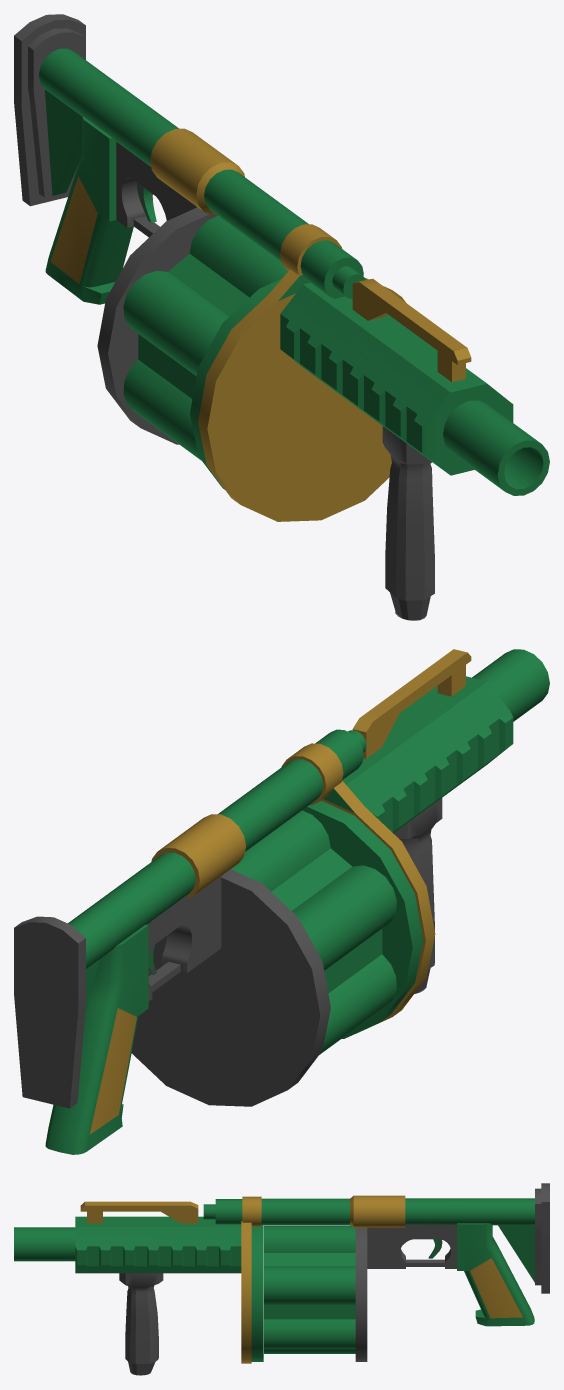
The model's file is Gun04.fbx.
The picture shows the model from 3 angles, top to bottom: view 1: azimuth 30°, elevation 25°; view 2: azimuth 150°, elevation 25°; view 3: azimuth 270°, elevation 25°; orthographic projection. The views are drawn at different scales.
Parts seen in each view (by area): view 1: Gun01, Gun02, Gun03; view 2: Gun01, Gun03, Gun02; view 3: Gun01, Gun03, Gun02.
Boxes of the visible parts, bbox=[...] form: Gun01: bbox=[39, 48, 549, 495]; Gun02: bbox=[50, 128, 471, 521]; Gun03: bbox=[14, 14, 434, 620]; Gun01: bbox=[45, 649, 549, 1154]; Gun03: bbox=[14, 798, 442, 1108]; Gun02: bbox=[89, 649, 471, 1134]; Gun01: bbox=[14, 1198, 534, 1361]; Gun03: bbox=[119, 1183, 549, 1375]; Gun02: bbox=[80, 1195, 522, 1363].
Bounding box in the file's own units: 51.51 × 71.56 × 187.
